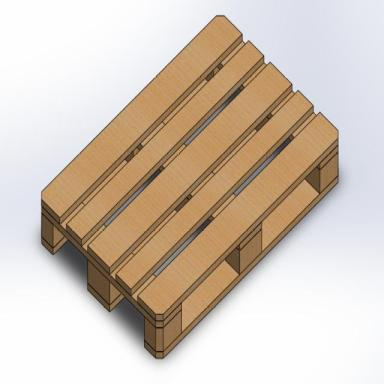pallet: (41, 15, 339, 359)
